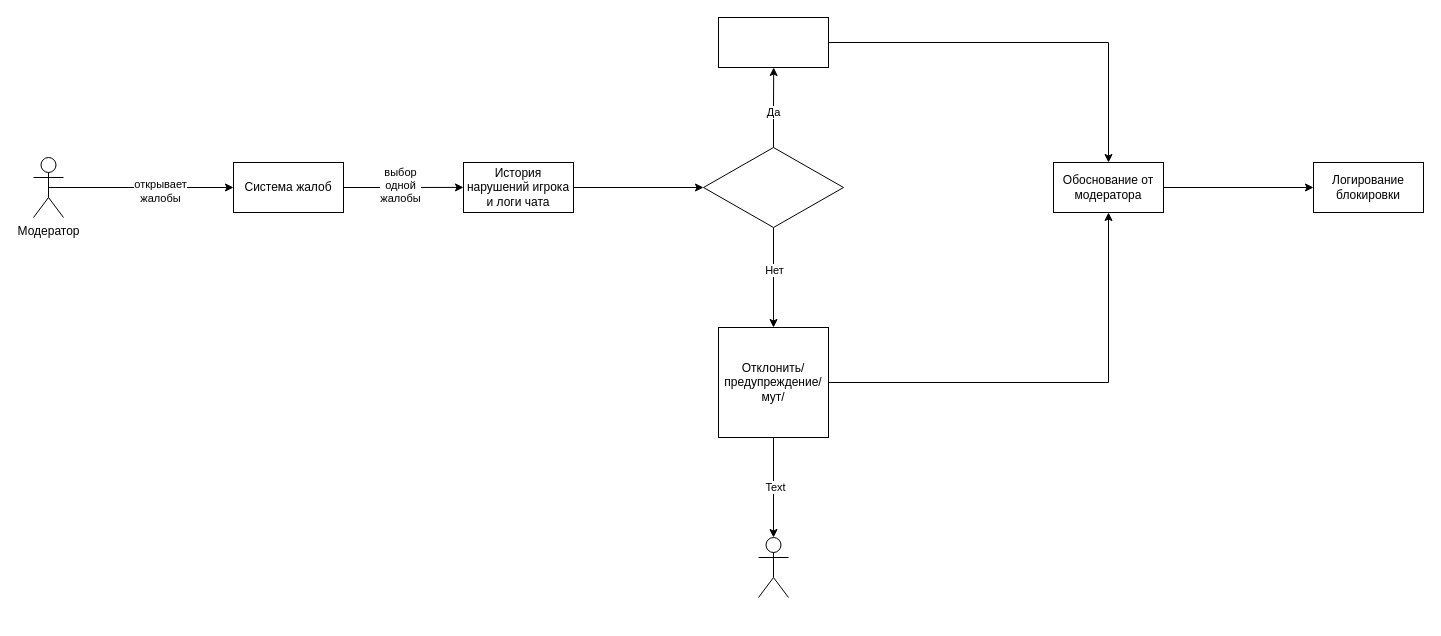
Image size: 1441x636. Some labels were removed from this diagram. Each missing label, with the centre of its shape:
"Блокировка нарушителя" goes at (x=773, y=42).
"Нарушитель" goes at (x=773, y=567).
"Тяжелое нарушение?" goes at (x=773, y=187).
